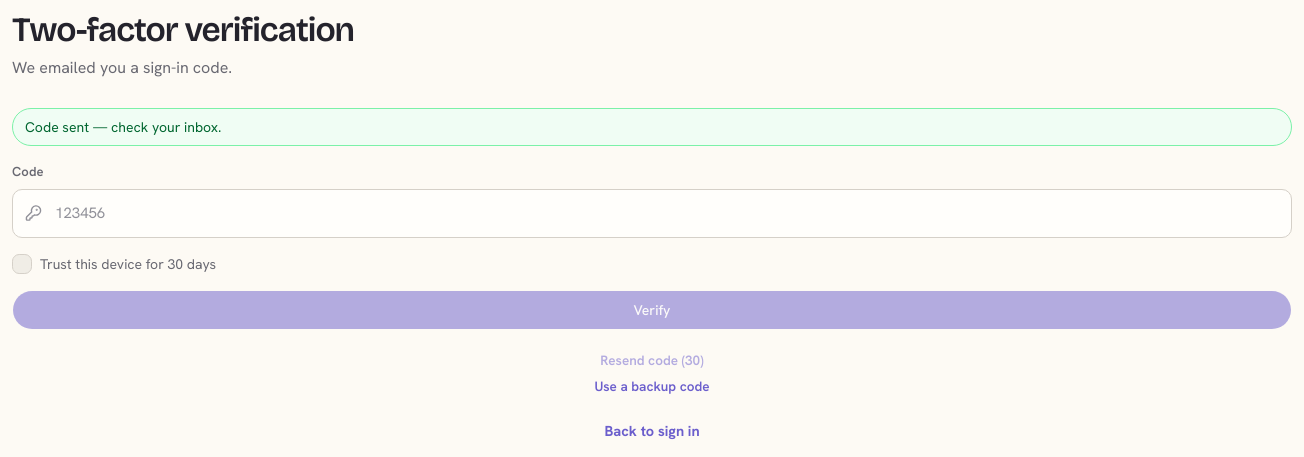
Test: TwoFactorPage › keeps resend alive when the emailed code's attempts are spent
The width and height of the screenshot is (1304, 457).
Type "000000" into the field labelled "Code" at x=652, y=213, box [12,189,1292,238]
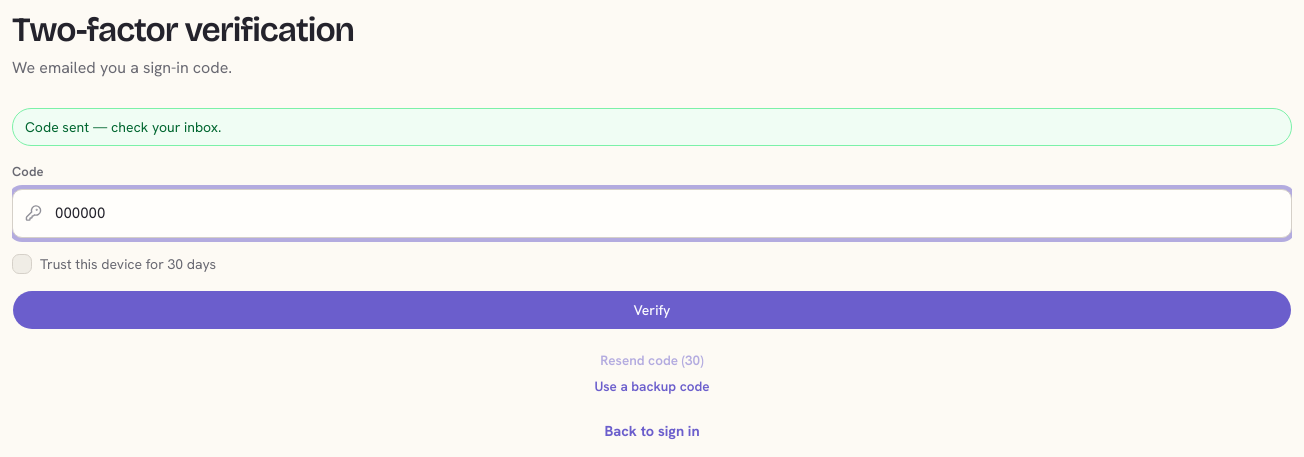
Click the button "Verify" at x=652, y=310, box [12,290,1292,330]
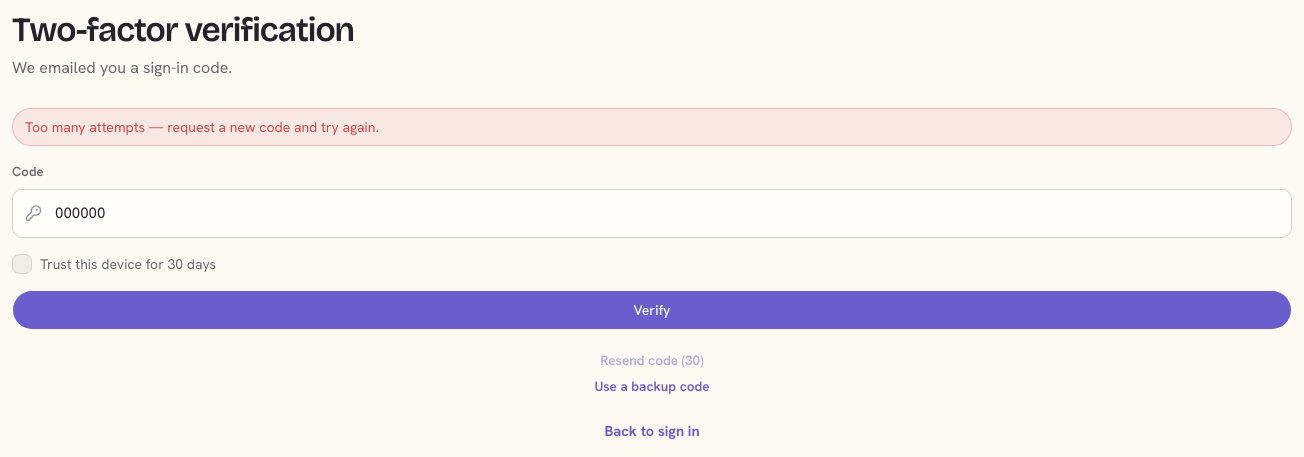
Expected: the field labelled "Code" is enabled, [12,189,1292,238]
Now the text "Too many attempts — request a new code and try again." is shown, box [12,108,1292,146]
